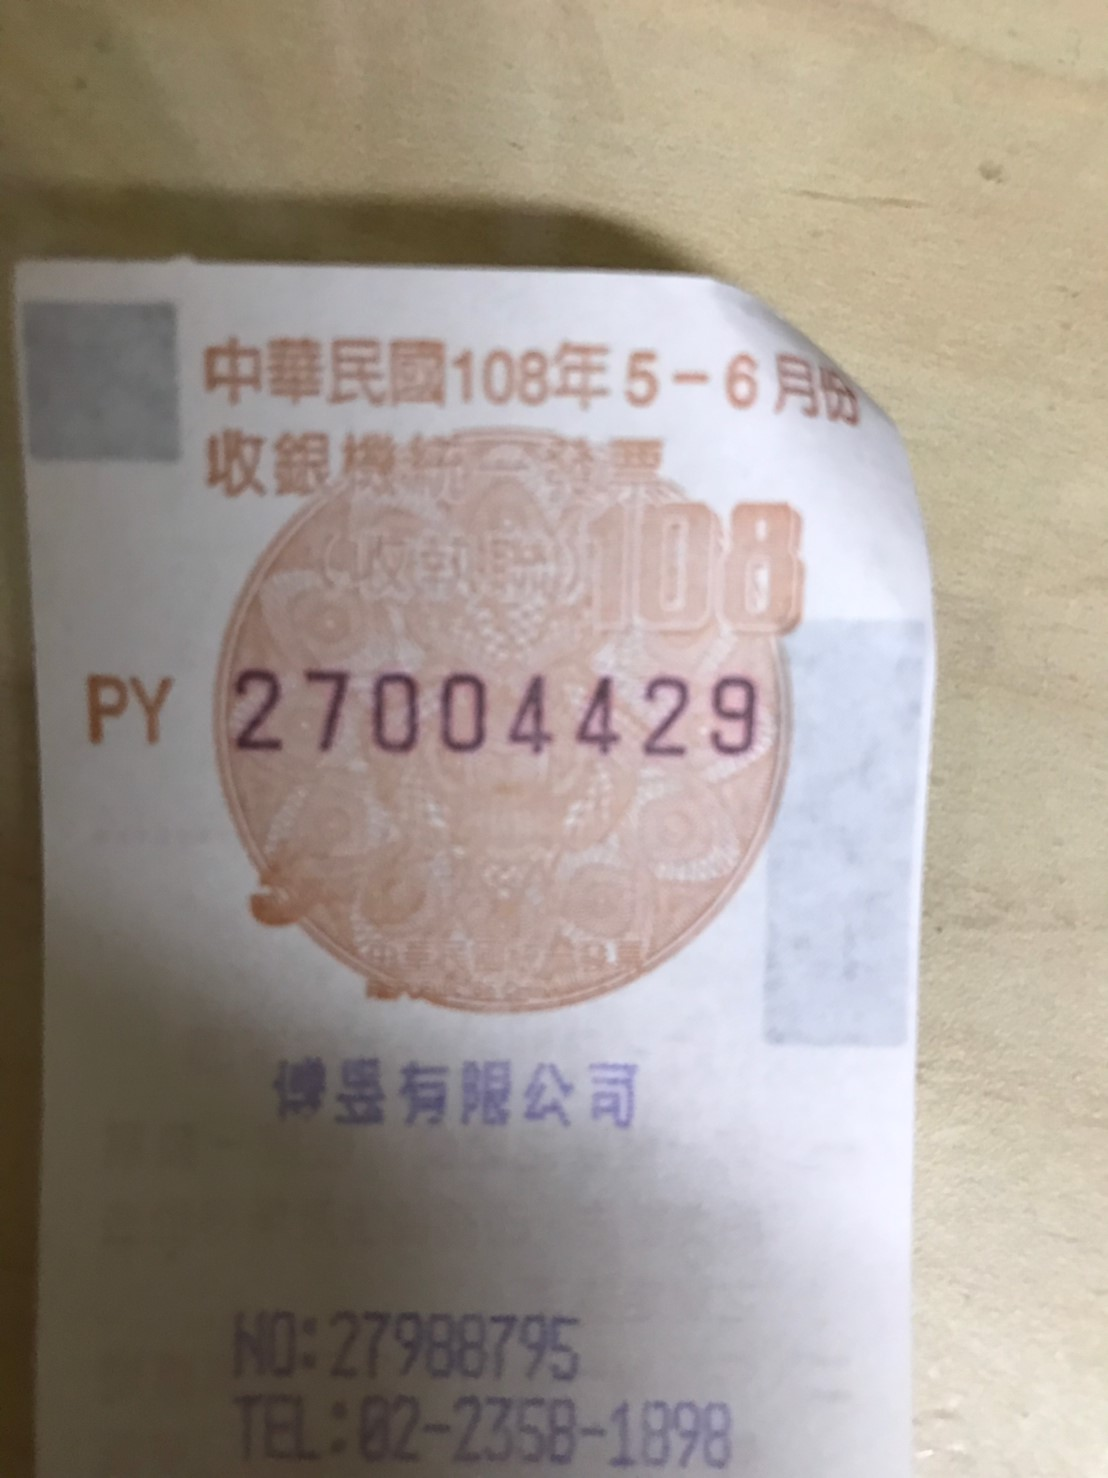Date_Old: (445, 324, 871, 429)
Number_Old: (223, 655, 765, 760)
